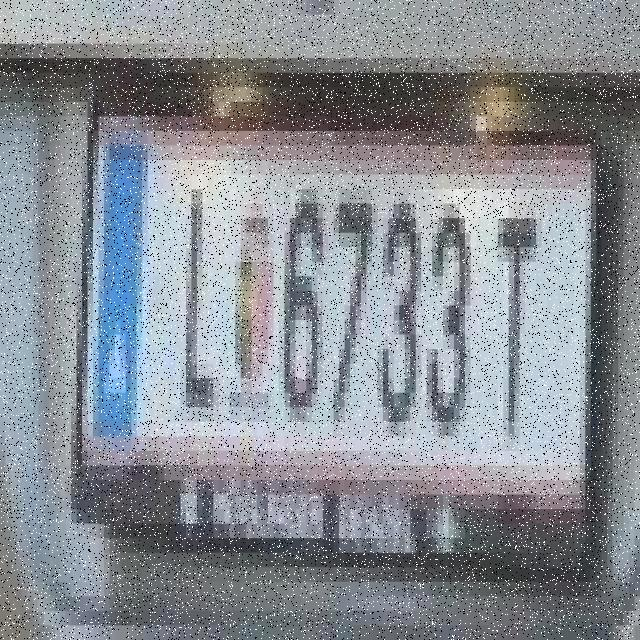licenseplate: (65, 31, 608, 578)
